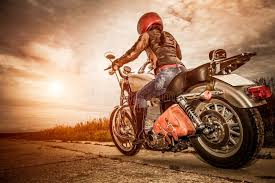motorcycle: (101, 48, 275, 170)
